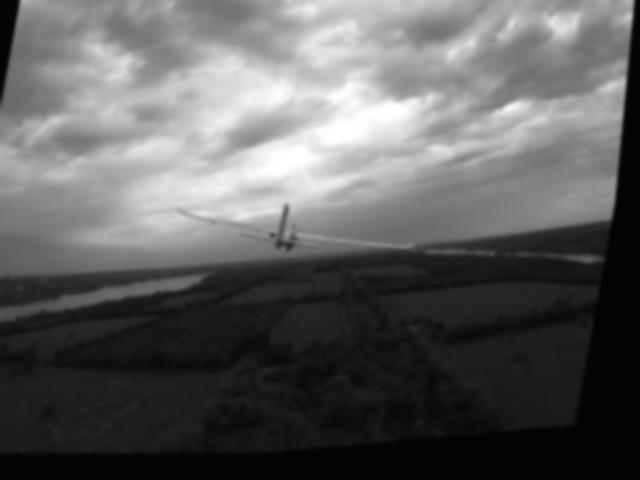hedef: (168, 181, 425, 294)
